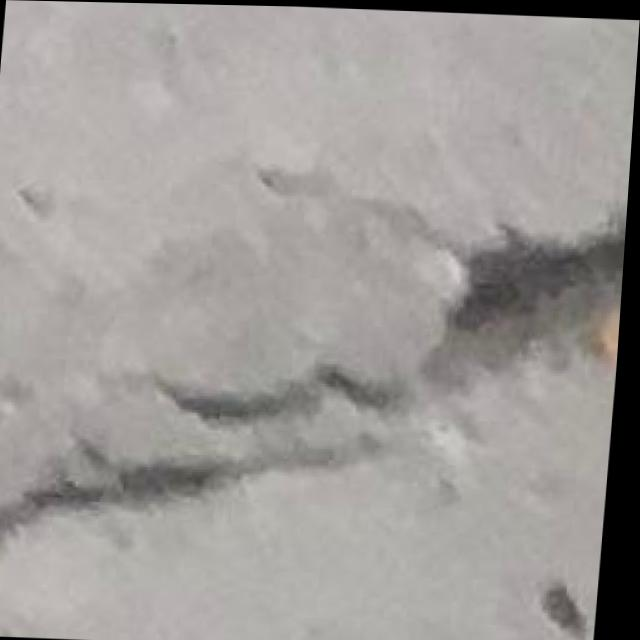Crack: (135, 121, 634, 453), (0, 406, 425, 571)
